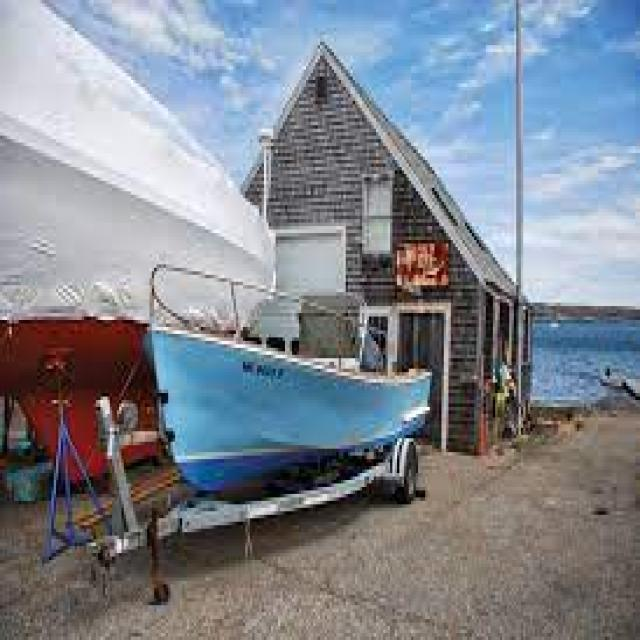ship2: (146, 327, 433, 506)
